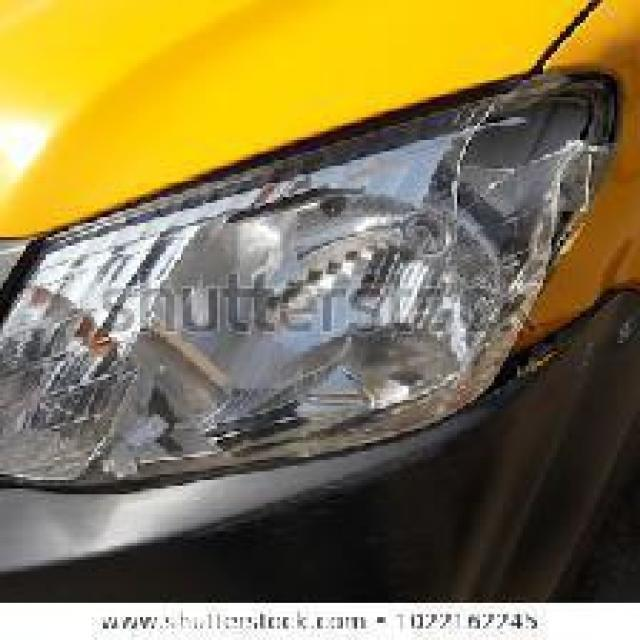damaged: (454, 68, 637, 334)
